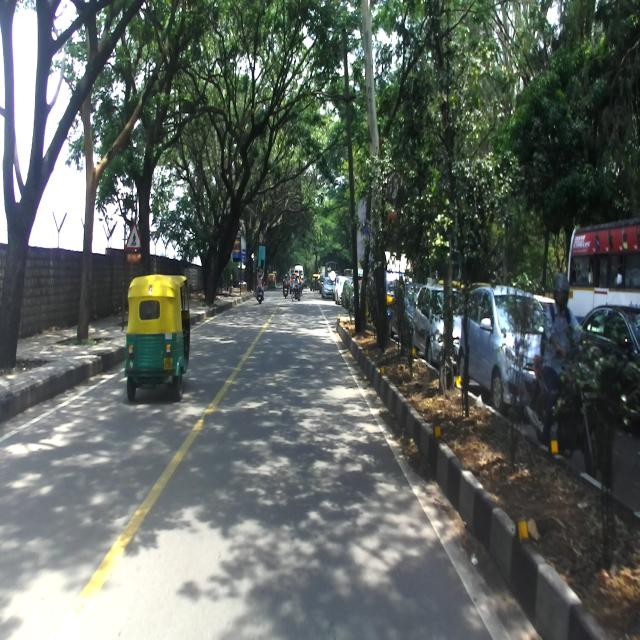auto ahead at: (123, 273, 192, 409)
tree ahead at: (0, 99, 51, 380), (78, 141, 100, 336)
